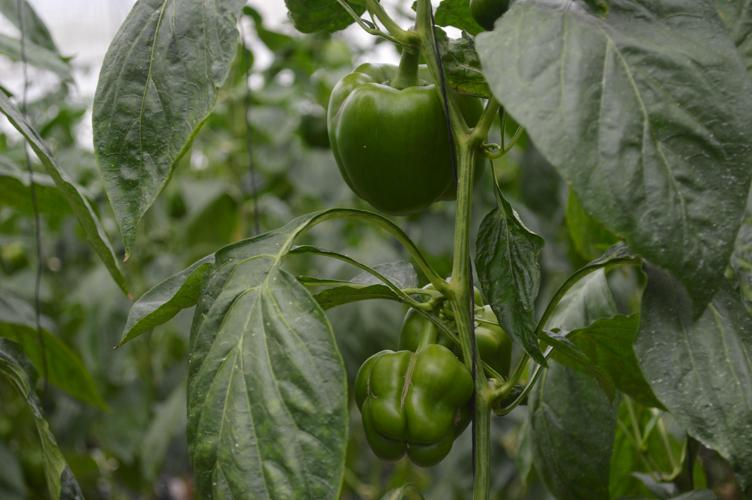BellPepper: (320, 66, 484, 207), (356, 350, 473, 460), (401, 285, 518, 377)
